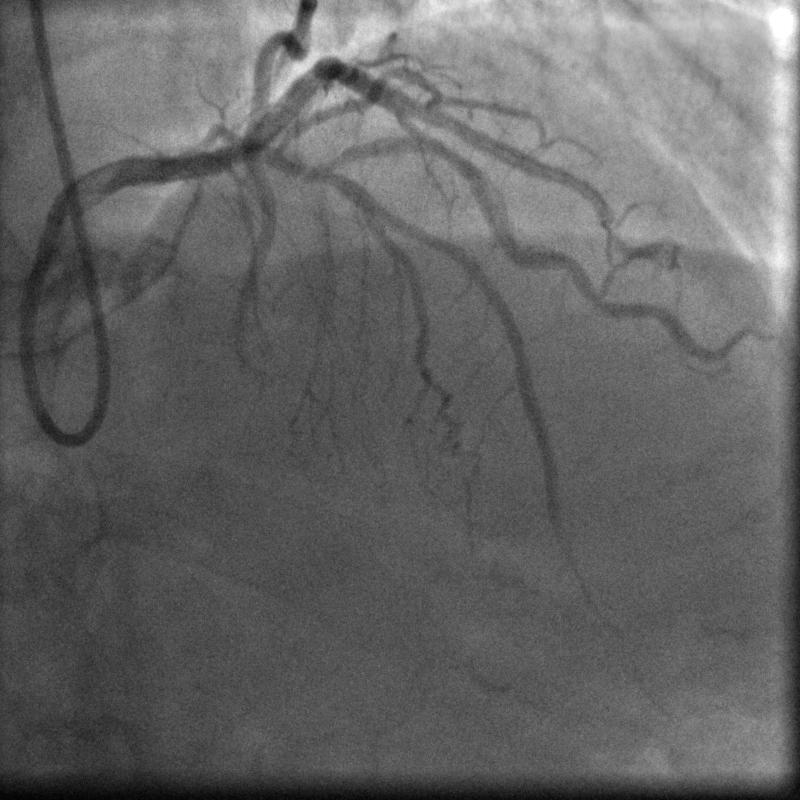Stenosis: (429, 132, 472, 180)
